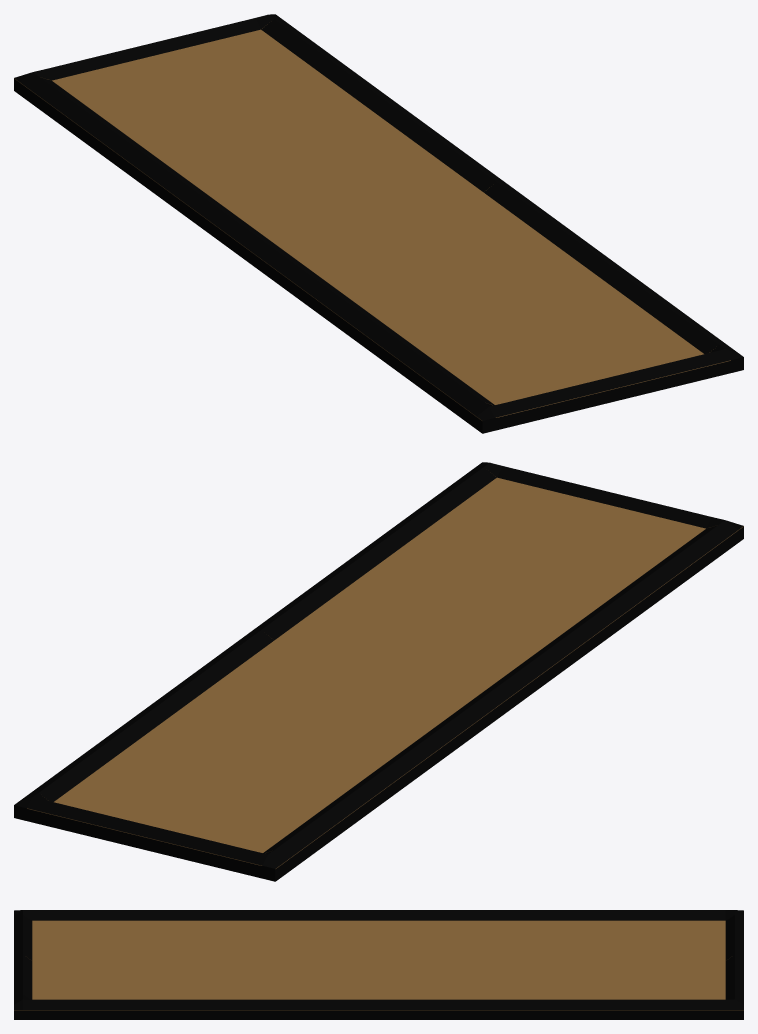
3 renders of one model, top to bottom at view 1: azimuth 30°, elevation 25°; view 2: azimuth 150°, elevation 25°; view 3: azimuth 270°, elevation 25°, orthographic. The views are drawn at different scales.
Parts seen in each view (by area): view 1: Cube; view 2: Cube; view 3: Cube.
Boxes of the visible parts, x1,y1,x2,y2 form: Cube: (14, 14, 743, 433); Cube: (14, 462, 743, 881); Cube: (14, 910, 743, 1019).
Bounding box in the file's own units: 281 × 20.45 × 872.
